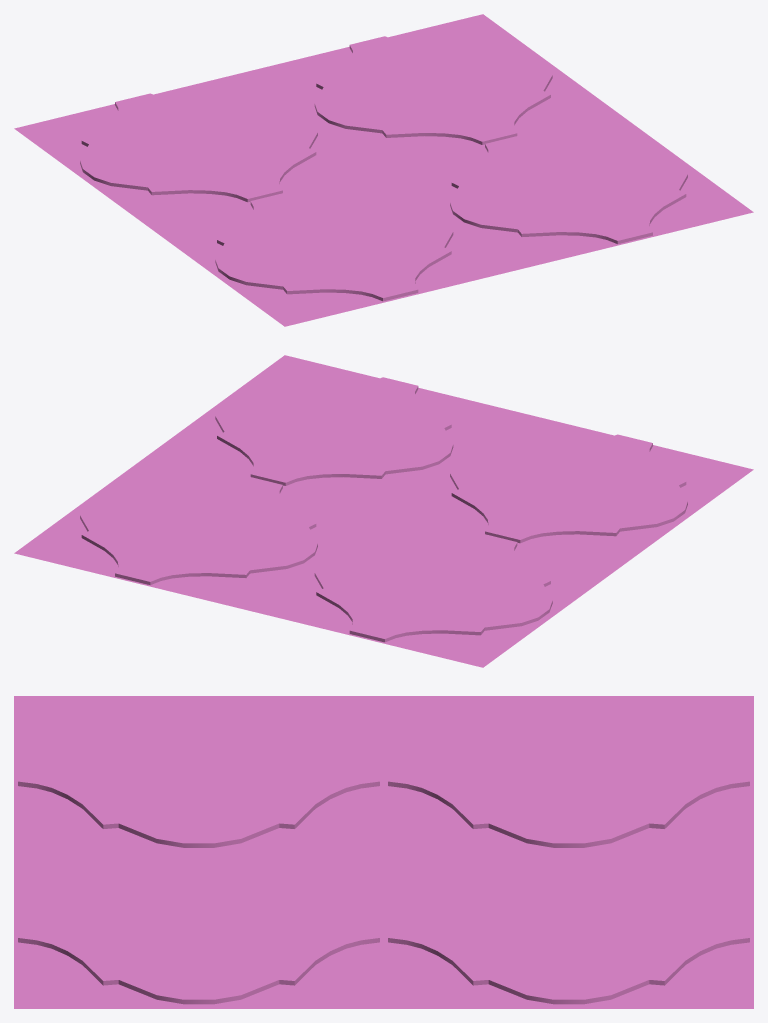
Rendered from ENV_HAU_KITCHENFLOOR_MODEL.fbx.
The picture shows the model from 3 angles, top to bottom: view 1: azimuth 30°, elevation 25°; view 2: azimuth 150°, elevation 25°; view 3: azimuth 270°, elevation 25°; orthographic projection. The views are drawn at different scales.
Visible parts, largest first — view 1: ENV_HAU_KITCHENFLOOR_MODEL; view 2: ENV_HAU_KITCHENFLOOR_MODEL; view 3: ENV_HAU_KITCHENFLOOR_MODEL.
Part boxes in pixels (x1,y1,x2,y2): ENV_HAU_KITCHENFLOOR_MODEL: (14, 14, 753, 326); ENV_HAU_KITCHENFLOOR_MODEL: (14, 355, 753, 667); ENV_HAU_KITCHENFLOOR_MODEL: (14, 696, 753, 1008).
Size of the model in its own units: 100 by 0.6733 by 100.
